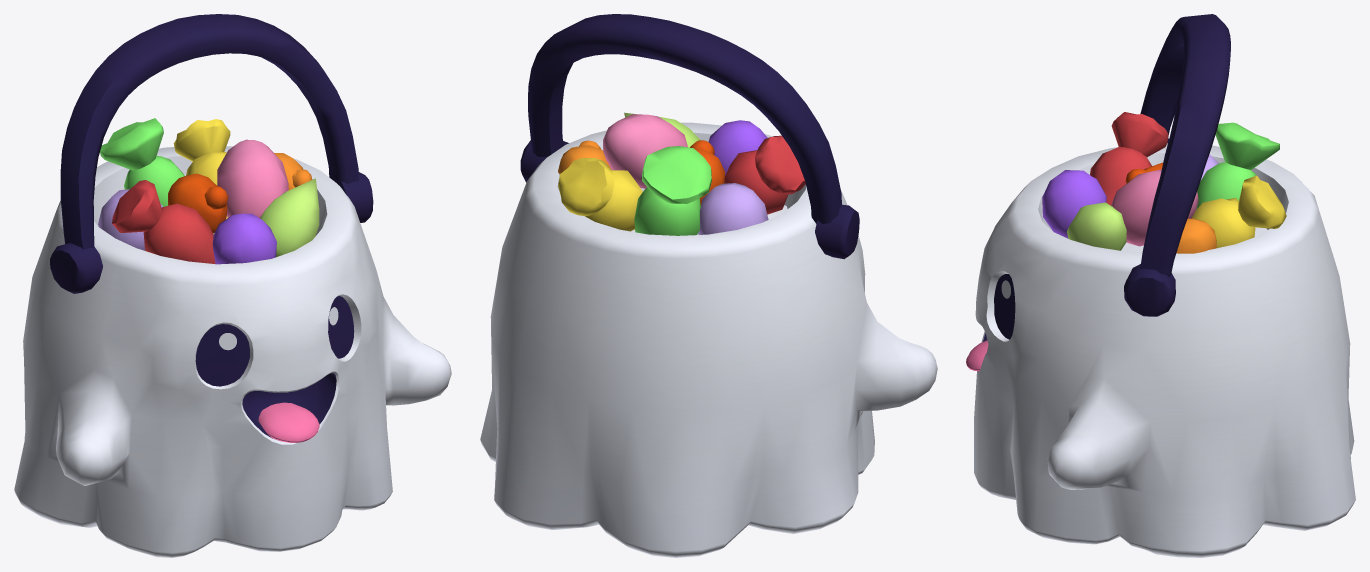
Rendered from treat_02.glb.
3 views of the same model, side by side, from view 1: azimuth 30°, elevation 25°; view 2: azimuth 150°, elevation 25°; view 3: azimuth 270°, elevation 25° (orthographic). The views are drawn at different scales.
Visible parts, largest first — view 1: WBA_CandyBucket_Set_02; view 2: WBA_CandyBucket_Set_02; view 3: WBA_CandyBucket_Set_02.
Part boxes in pixels (x1,y1,x2,y2): WBA_CandyBucket_Set_02: (14,14,451,557); WBA_CandyBucket_Set_02: (480,14,937,557); WBA_CandyBucket_Set_02: (966,14,1355,557).
Bounding box in the file's own units: 0.2636 × 0.2914 × 0.2297.
1 material, 1 textured.
